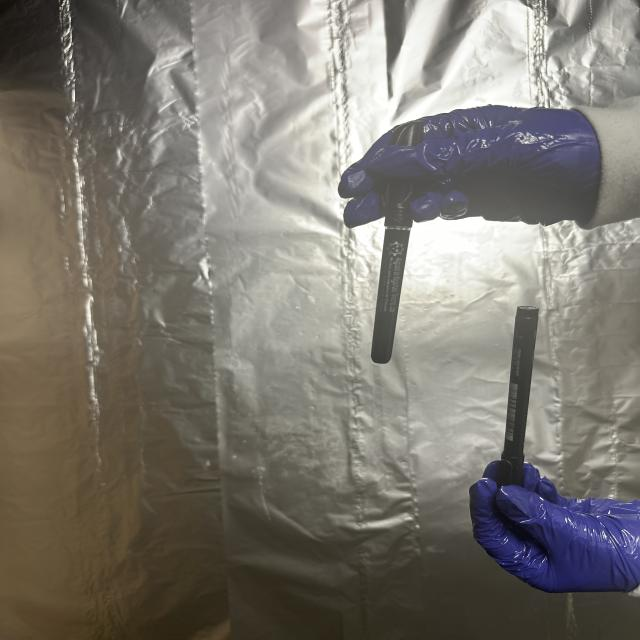gloves_contaminated: (339, 106, 603, 227), (470, 462, 640, 593)
